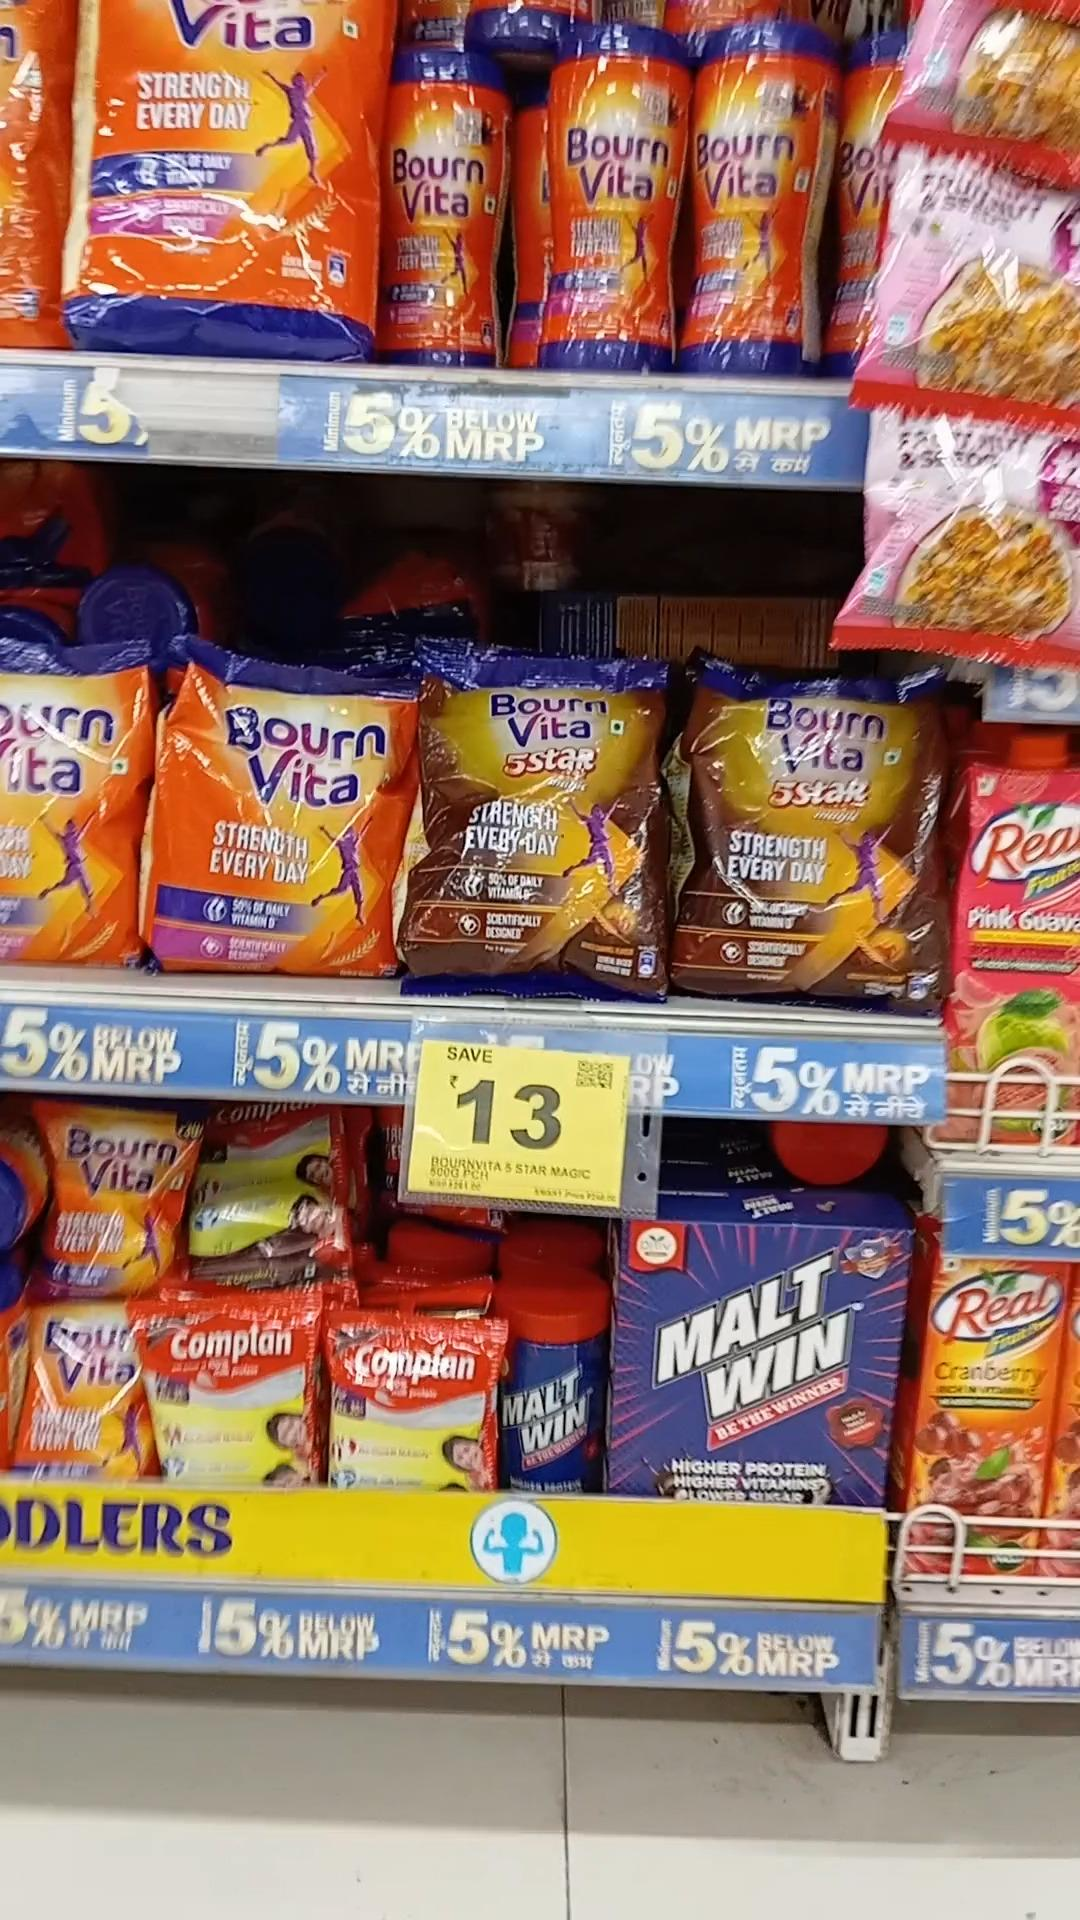BOURN_VITA_500_G_JAR: (684, 21, 831, 377), (534, 22, 676, 373), (381, 44, 504, 368)
BOURN_VITA_500_G_POUCH: (148, 655, 409, 978)
BOURN_VITA_75_G_POUCH: (37, 1101, 178, 1290), (7, 1304, 149, 1477)
BOURN_VITA_FIVE_STAR_MAGIC_500_G_POUCH: (673, 662, 945, 1013), (411, 653, 659, 1001)
